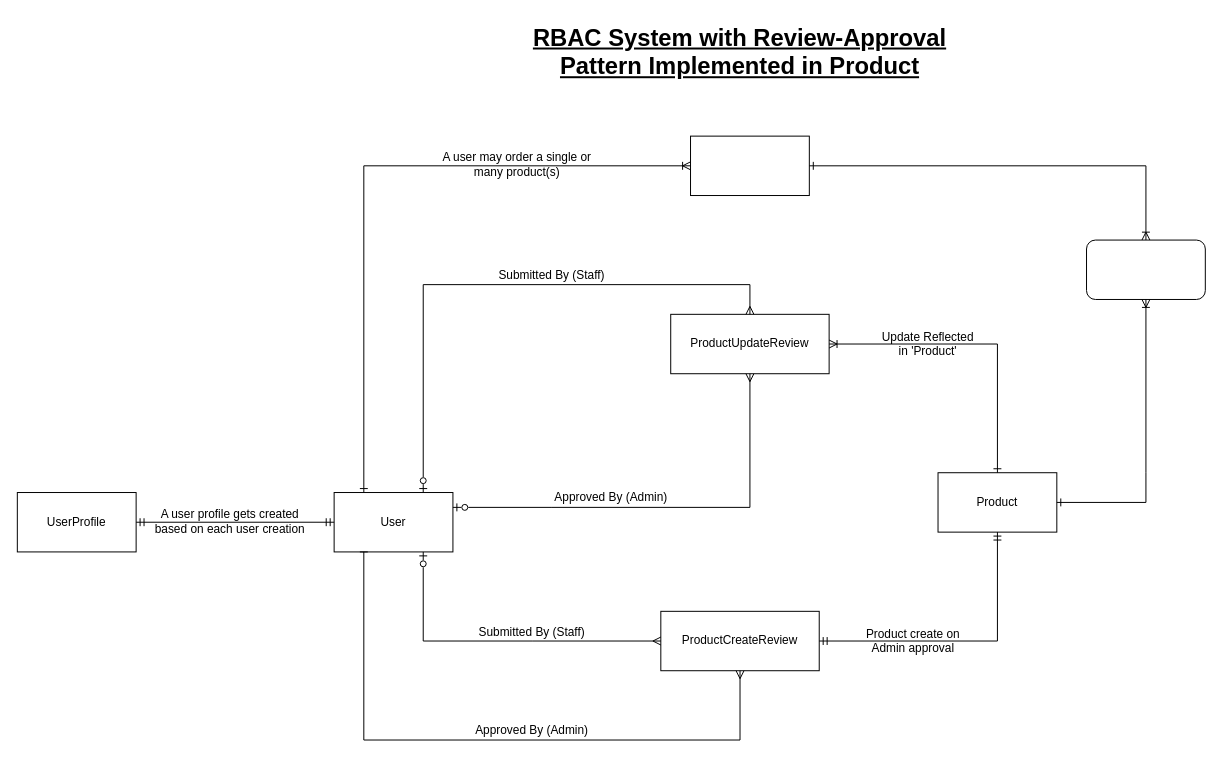
This 1223x766 diagram has some shape labels left out. Each missing label, with the centre of its shape:
Order: [749,165]
Product_Order: [1145,269]
